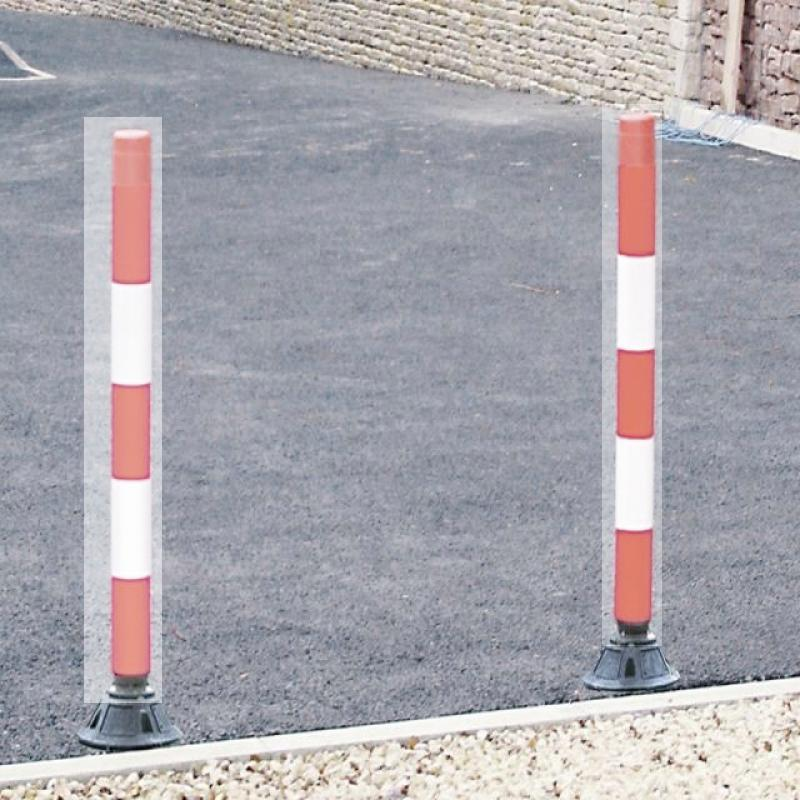pillar: (84, 118, 162, 704), (602, 104, 662, 646)
